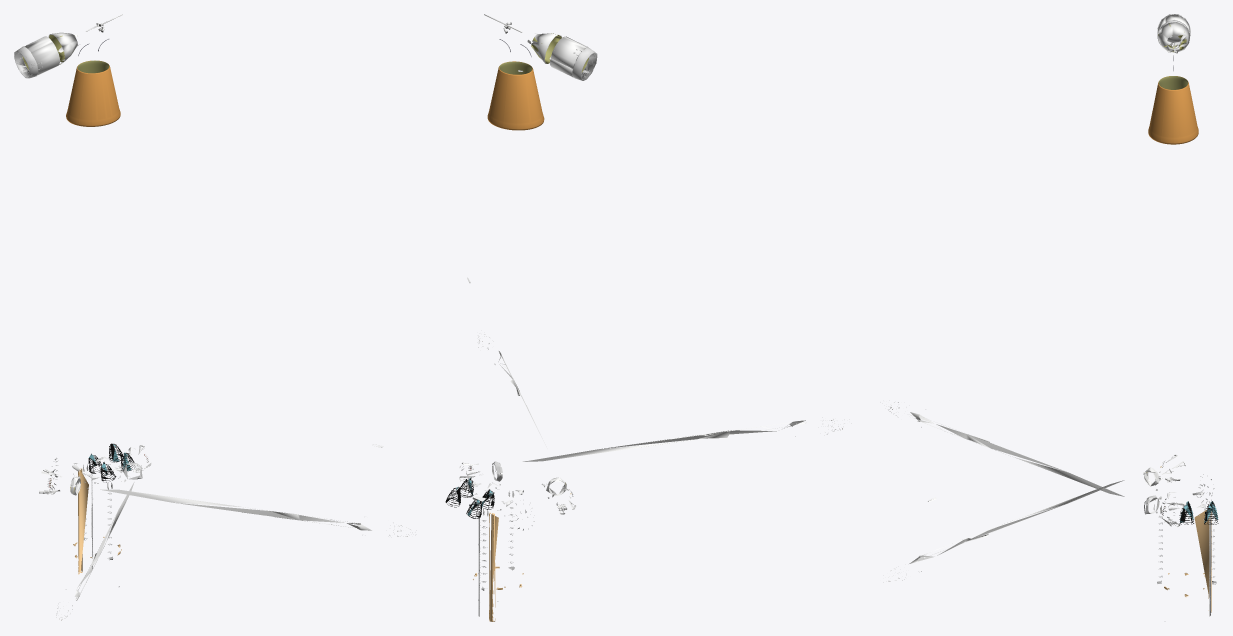
Rendered from sls_block1_corrupt.glb.
The picture shows the model from 3 angles, left to right: view 1: azimuth 30°, elevation 25°; view 2: azimuth 150°, elevation 25°; view 3: azimuth 270°, elevation 25°; orthographic projection. The views are drawn at different scales.
Visible parts, largest first — view 1: icps, orion_las, srb_left, core_stage, srb_right, rs25_engines; view 2: icps, orion_las, srb_right, core_stage, rs25_engines, srb_left; view 3: icps, srb_right, srb_left, core_stage, orion_las.
Boxes of the visible parts, x1,y1,x2,y2 form: icps: (66,39,120,126); orion_las: (14,14,122,78); srb_left: (39,444,416,537); core_stage: (72,456,122,586); srb_right: (56,445,151,620); rs25_engines: (88,443,135,482); icps: (487,39,544,130); orion_las: (484,14,597,80); srb_right: (459,418,843,490); core_stage: (472,482,523,621); rs25_engines: (445,477,494,518); srb_left: (467,278,576,530); icps: (1148,55,1198,144); srb_right: (880,402,1185,526); srb_left: (883,454,1214,582); core_stage: (1157,491,1216,621); orion_las: (1157,14,1190,53).
Size of the model in its own units: 69.9 by 105 by 56.28.
Materials: 14 (14 with a texture image).
